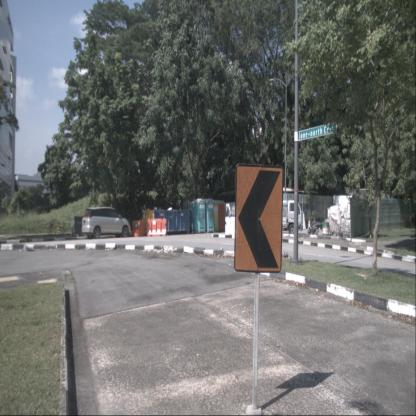movable_object-barrier: (146, 218, 168, 237), (132, 219, 145, 237)
vehicle-bicycle: (48, 216, 64, 238)
vehicle-car: (81, 206, 131, 239)
vehicle-truck: (262, 199, 303, 235)
